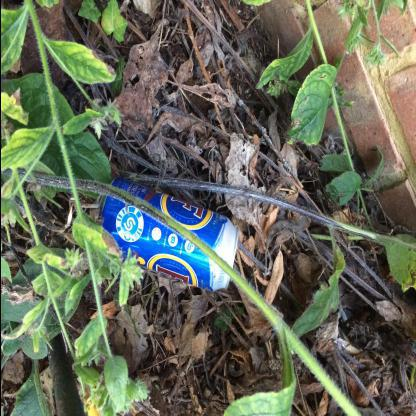metal: (97, 178, 240, 294)
